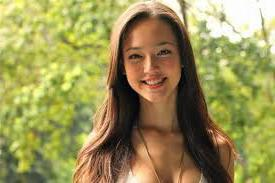face: (124, 20, 181, 102)
